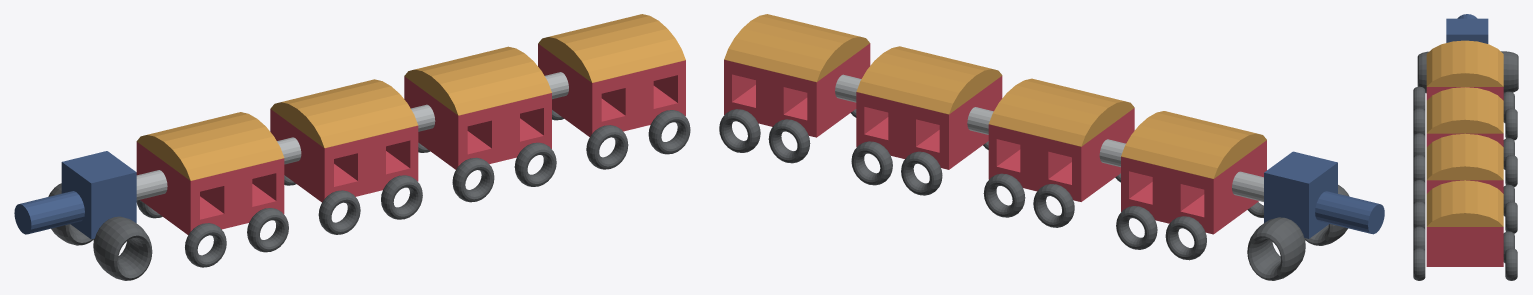
File: PRO-P-150.glb
3 views of the same model, side by side, from view 1: azimuth 30°, elevation 25°; view 2: azimuth 150°, elevation 25°; view 3: azimuth 270°, elevation 25° (orthographic). The views are drawn at different scales.
Visible parts, largest first — view 1: Mesh_Mesh_head_geo.001_lambert2SG.001; view 2: Mesh_Mesh_head_geo.001_lambert2SG.001; view 3: Mesh_Mesh_head_geo.001_lambert2SG.001.
Part boxes in pixels (left/top/right/bottom): Mesh_Mesh_head_geo.001_lambert2SG.001: left=14, top=14, right=690, bottom=280; Mesh_Mesh_head_geo.001_lambert2SG.001: left=719, top=14, right=1384, bottom=280; Mesh_Mesh_head_geo.001_lambert2SG.001: left=1413, top=14, right=1518, bottom=280.
Size of the model in its own units: 237 by 37 by 47.75.
